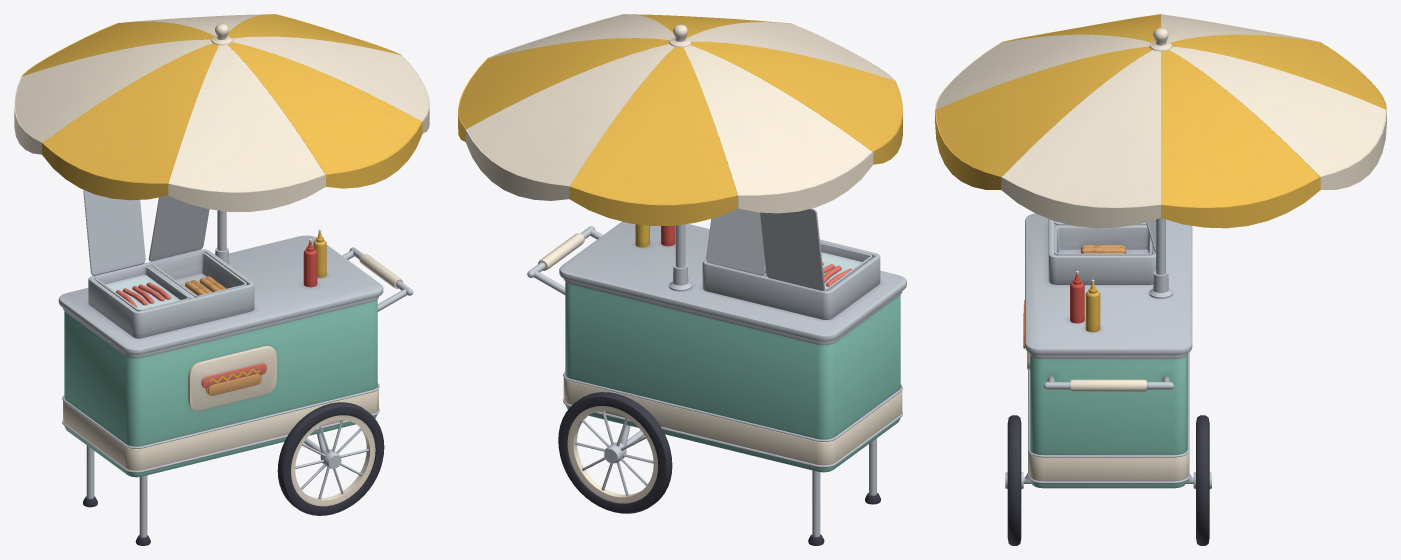
The model's file is hot-dog-cart.obj.
3 renders of one model, left to right at view 1: azimuth 30°, elevation 25°; view 2: azimuth 150°, elevation 25°; view 3: azimuth 270°, elevation 25°, orthographic. The views are drawn at different scales.
Parts seen in each view (by area): view 1: hot-dog-cart_body, hot-dog-cart_umbrella; view 2: hot-dog-cart_body, hot-dog-cart_umbrella; view 3: hot-dog-cart_umbrella, hot-dog-cart_body.
Part boxes in pixels (x1,y1,x2,y2): hot-dog-cart_body: [58, 190, 413, 545]; hot-dog-cart_umbrella: [14, 14, 429, 251]; hot-dog-cart_body: [527, 208, 906, 545]; hot-dog-cart_umbrella: [458, 14, 902, 267]; hot-dog-cart_umbrella: [935, 14, 1386, 274]; hot-dog-cart_body: [1005, 213, 1211, 545].
Size of the model in its own units: 1.73 by 2.06 by 1.73.
Materials: 2 (2 with a texture image).
